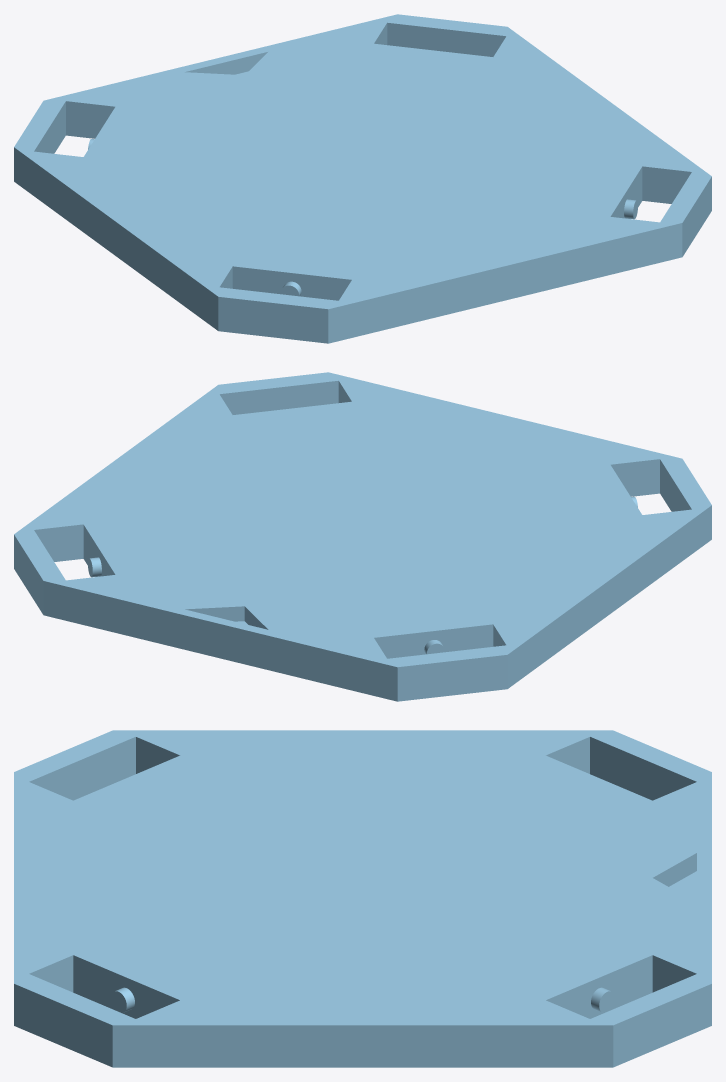
The model's file is chassis-v2.dae.
The picture shows the model from 3 angles, top to bottom: view 1: azimuth 30°, elevation 25°; view 2: azimuth 150°, elevation 25°; view 3: azimuth 270°, elevation 25°; orthographic projection. The views are drawn at different scales.
Parts seen in each view (by area): view 1: ID2; view 2: ID2; view 3: ID2.
Part boxes in pixels (x1,y1,x2,y2): ID2: (14,14,711,343); ID2: (14,372,711,701); ID2: (14,730,711,1067).
Size of the model in its own units: 0.381 by 0.381 by 0.0254.
